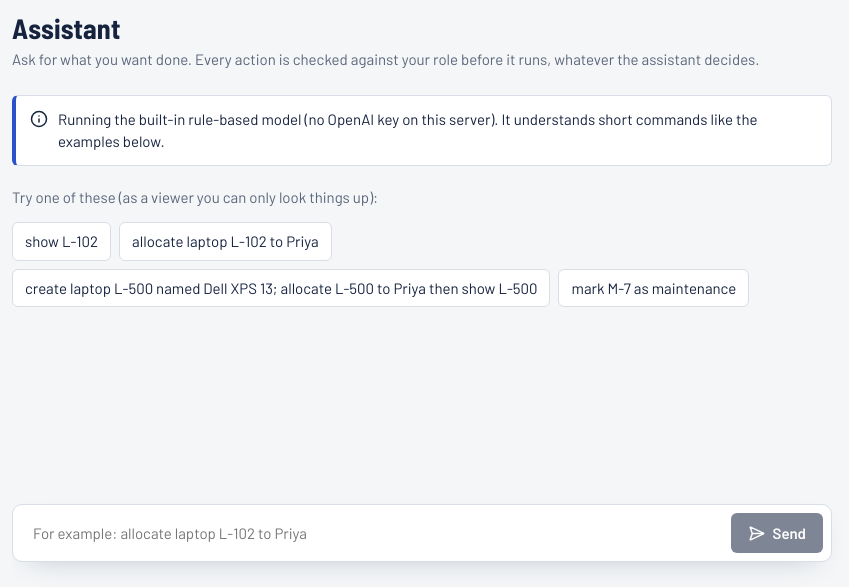
Test: AssistantPage › shows the reply and what the assistant did, including refusals
In the field named "Message the assistant": (371, 533) [21,513,720,553], type "allocate laptop L-102 to Priya"
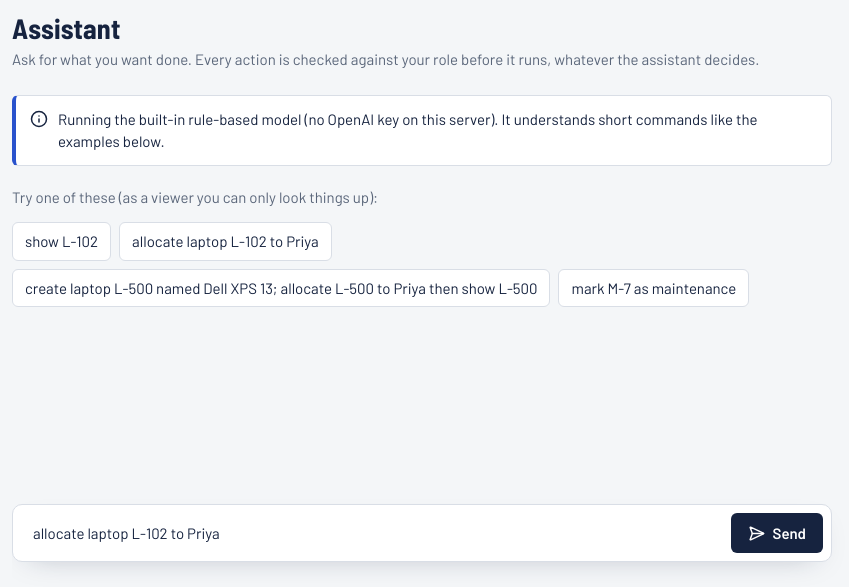
Click the button "Send": (777, 533) [730,513,823,553]
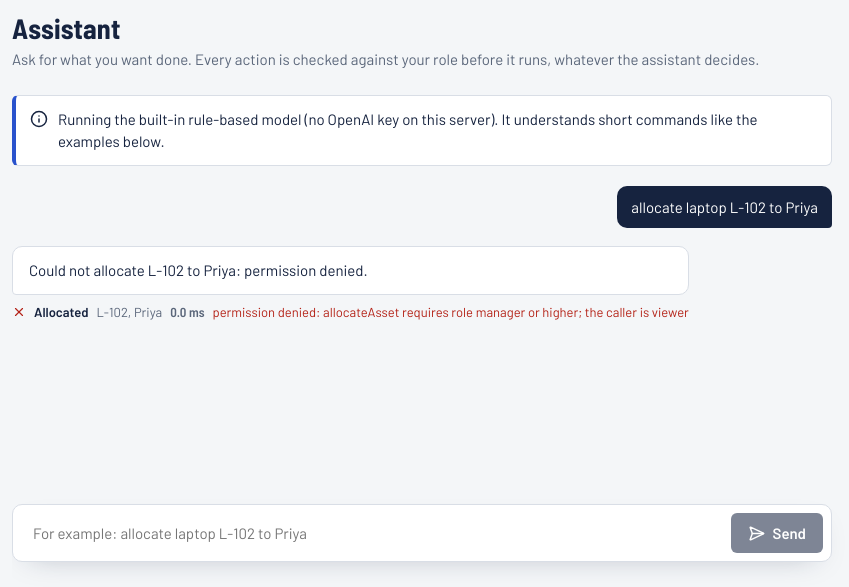
Now the text "Could not allocate L-102 to Priya: permission denied." is shown, box [12,246,689,295]
Now the text "Allocated" is shown, box [34,303,88,322]
Now the text "requires role manager" is shown, box [213,304,689,320]
